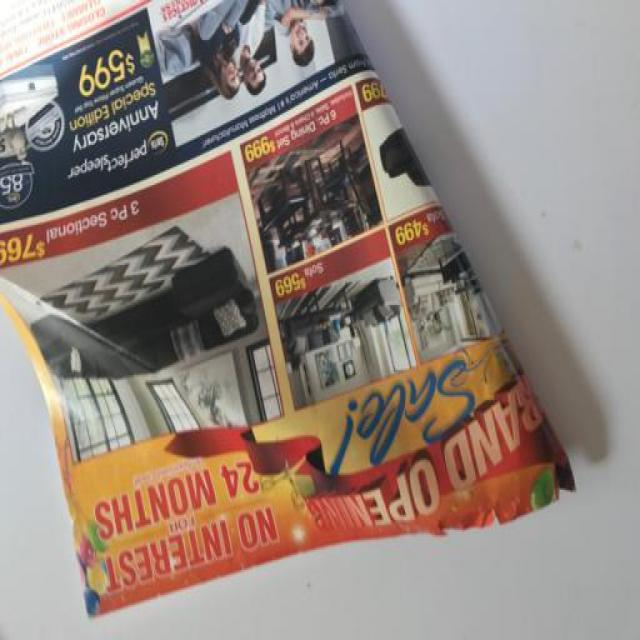paper: (1, 5, 569, 607)
